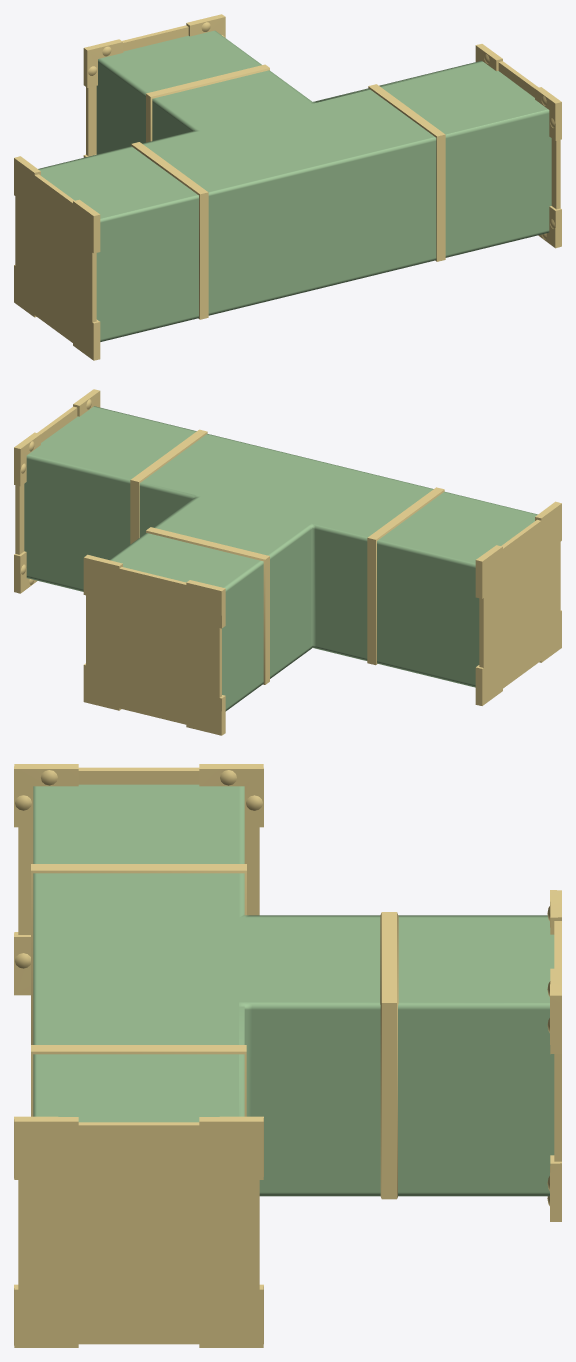
The model's file is Ventilating_Duct_01c_snaps020.FBX.
3 views of the same model, one above another, from view 1: azimuth 30°, elevation 25°; view 2: azimuth 150°, elevation 25°; view 3: azimuth 270°, elevation 25° (orthographic). The views are drawn at different scales.
Parts seen in each view (by area): view 1: Ventilating_Duct_01c_snaps020_LOD0; view 2: Ventilating_Duct_01c_snaps020_LOD0; view 3: Ventilating_Duct_01c_snaps020_LOD0.
Boxes of the visible parts, box(x1,y1,x2,y2) form: Ventilating_Duct_01c_snaps020_LOD0: box(14, 14, 561, 360); Ventilating_Duct_01c_snaps020_LOD0: box(14, 389, 561, 735); Ventilating_Duct_01c_snaps020_LOD0: box(14, 764, 561, 1347).
Size of what is drawn, in the model's own units: 2 by 1.3 by 0.5911.
